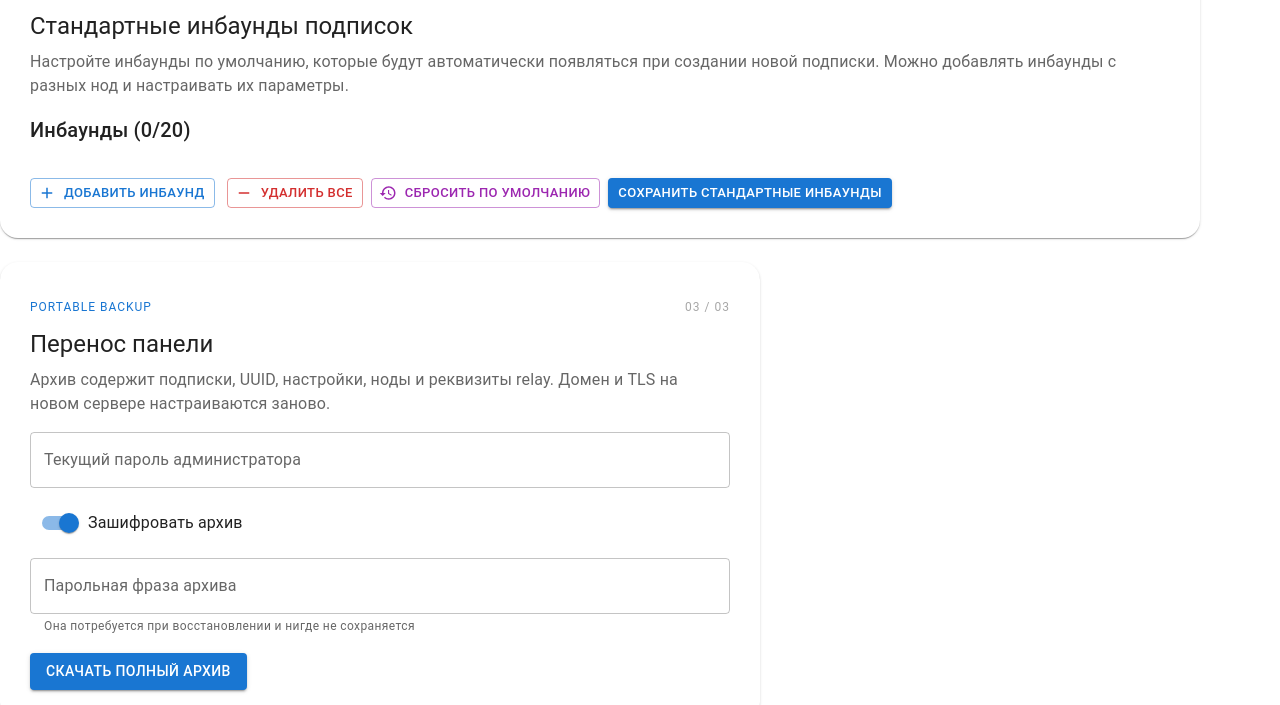
it: SettingsPage › requires the current administrator password for export
(page scrolled)
Click the button "Скачать полный архив": point(138, 671) [30,653,247,690]
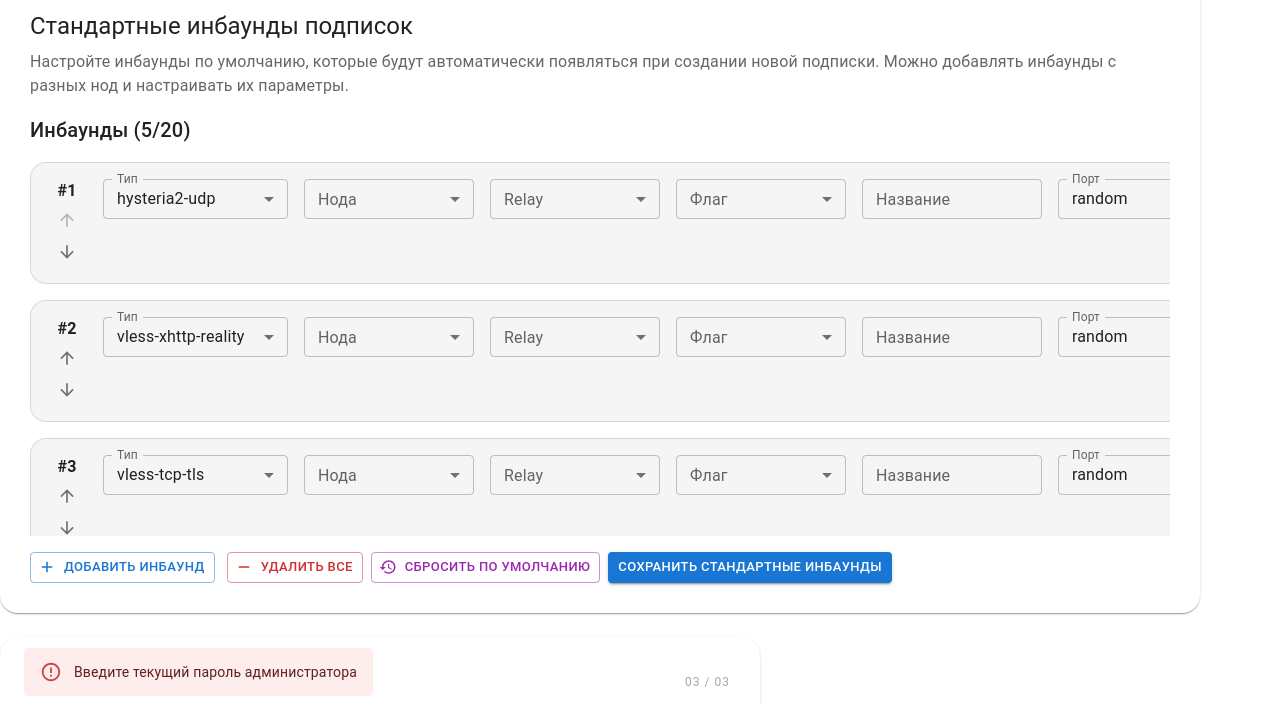
Result: the text "Введите текущий пароль администратора" is shown at [74,664,357,680]
